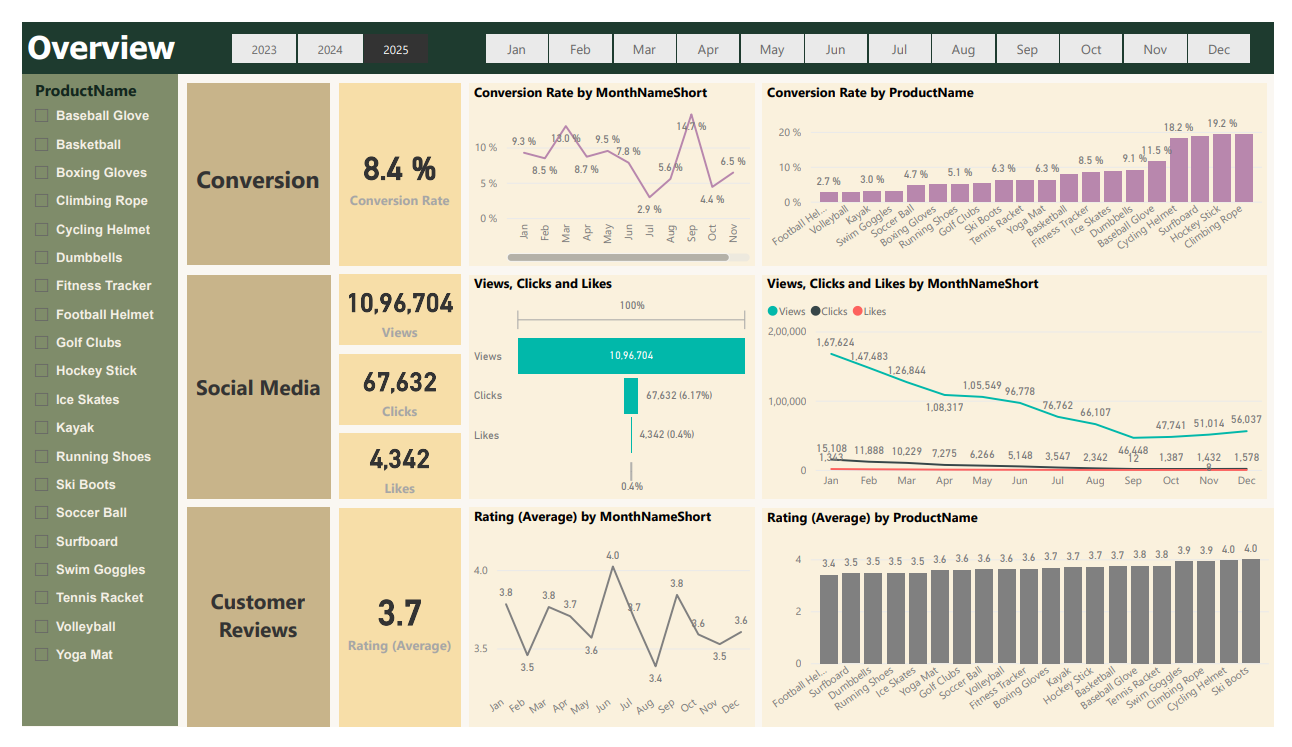

Layout of this report page (visuals, bound fields, positions):
{"tool":"powerbi","page":{"name":"Overview","canvas":[1280,720],"ordinal":0},"visuals":[{"type":"textbox","box":[0,0,1280,52.6],"z":0},{"type":"slicer","fields":{"Values":["dim_products.ProductName"]},"box":[0,52.7,159.3,666],"z":1000},{"type":"card","fields":{"Values":["_Calculations.Conversion Rate"]},"box":[324.1,61.9,123.9,186.8],"z":2000},{"type":"card","fields":{"Values":["_Calculations.Rating (Average)"]},"box":[324.1,496.5,123.9,224],"z":3000},{"type":"lineChart","fields":{"Category":["Calendar.MonthNameShort"],"Y":["_Calculations.Conversion Rate"]},"box":[457.1,61.9,292.3,186.7],"z":4000},{"type":"columnChart","fields":{"Category":["dim_products.ProductName"],"Y":["_Calculations.Conversion Rate"]},"box":[756.7,61.9,516.3,186.7],"z":5000},{"type":"slicer","fields":{"Values":["Calendar.Year"]},"box":[189.4,4.6,249.5,43.7],"z":6000},{"type":"slicer","fields":{"Values":["Calendar.MonthNameShort"]},"box":[448,4.6,832.3,43.7],"z":7000},{"type":"lineChart","fields":{"Category":["Calendar.MonthNameShort"],"Y":["_Calculations.Views","_Calculations.Clicks","_Calculations.Likes"]},"box":[756.6,258.1,516.1,229.2],"z":8000},{"type":"lineChart","fields":{"Category":["Calendar.MonthNameShort"],"Y":["_Calculations.Rating (Average)"]},"box":[457.1,496.3,292.3,224],"z":9000},{"type":"columnChart","fields":{"Category":["dim_products.ProductName"],"Y":["_Calculations.Rating (Average)"]},"box":[756.6,496.5,523.4,224],"z":10000},{"type":"funnel","fields":{"Y":["_Calculations.Views","_Calculations.Clicks","_Calculations.Likes"]},"box":[457.3,258.1,292.1,229.2],"z":11000},{"type":"card","fields":{"Values":["_Calculations.Views"]},"box":[324.2,257.7,123.8,71.9],"z":12000},{"type":"textbox","box":[168.3,61.7,145.8,186.7],"z":13000},{"type":"textbox","box":[168.5,257.7,146.6,229.5],"z":14000},{"type":"textbox","box":[168.5,496.3,145.7,224],"z":15000},{"type":"card","fields":{"Values":["_Calculations.Clicks"]},"box":[324.2,338.8,123.8,71.9],"z":16000},{"type":"card","fields":{"Values":["_Calculations.Likes"]},"box":[324.2,419.8,123.8,67.4],"z":17000}]}

Visuals, with their boxes in screenshot pixels (x1, y1, x2, y2), scaled from the page's 1280x720 canvas onto the 1292x747 screenshot:
textbox: x1=0, y1=0, x2=1291, y2=55
slicer - dim_products.ProductName: x1=0, y1=55, x2=161, y2=746
card - _Calculations.Conversion Rate: x1=327, y1=64, x2=452, y2=258
card - _Calculations.Rating (Average): x1=327, y1=515, x2=452, y2=746
lineChart - Calendar.MonthNameShort x _Calculations.Conversion Rate: x1=461, y1=64, x2=756, y2=258
columnChart - dim_products.ProductName x _Calculations.Conversion Rate: x1=764, y1=64, x2=1285, y2=258
slicer - Calendar.Year: x1=191, y1=5, x2=443, y2=50
slicer - Calendar.MonthNameShort: x1=452, y1=5, x2=1291, y2=50
lineChart - Calendar.MonthNameShort x _Calculations.Views: x1=764, y1=268, x2=1285, y2=506
lineChart - Calendar.MonthNameShort x _Calculations.Rating (Average): x1=461, y1=515, x2=756, y2=746
columnChart - dim_products.ProductName x _Calculations.Rating (Average): x1=764, y1=515, x2=1291, y2=746
funnel - _Calculations.Views x _Calculations.Clicks: x1=462, y1=268, x2=756, y2=506
card - _Calculations.Views: x1=327, y1=267, x2=452, y2=342
textbox: x1=170, y1=64, x2=317, y2=258
textbox: x1=170, y1=267, x2=318, y2=505
textbox: x1=170, y1=515, x2=317, y2=746
card - _Calculations.Clicks: x1=327, y1=352, x2=452, y2=426
card - _Calculations.Likes: x1=327, y1=436, x2=452, y2=505
